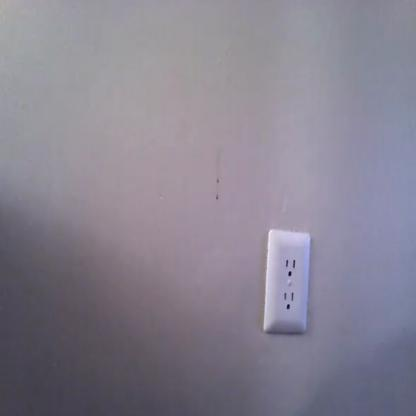OUTLET: (265, 230, 309, 332)
